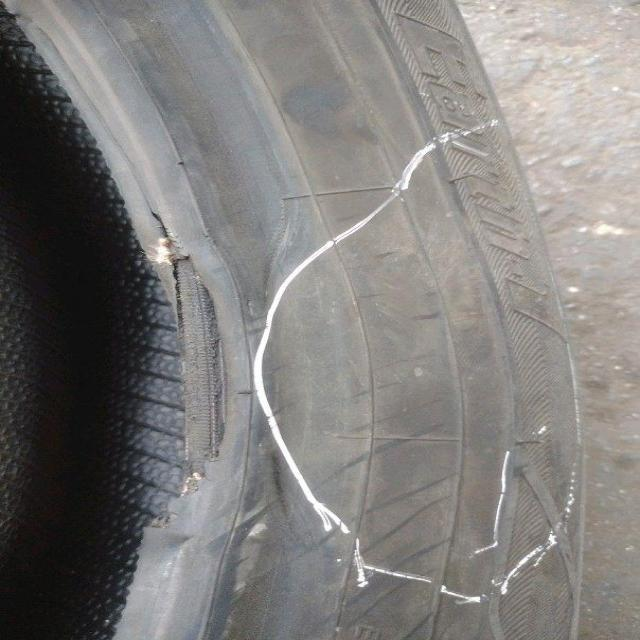Bulge: (310, 259, 564, 557)
